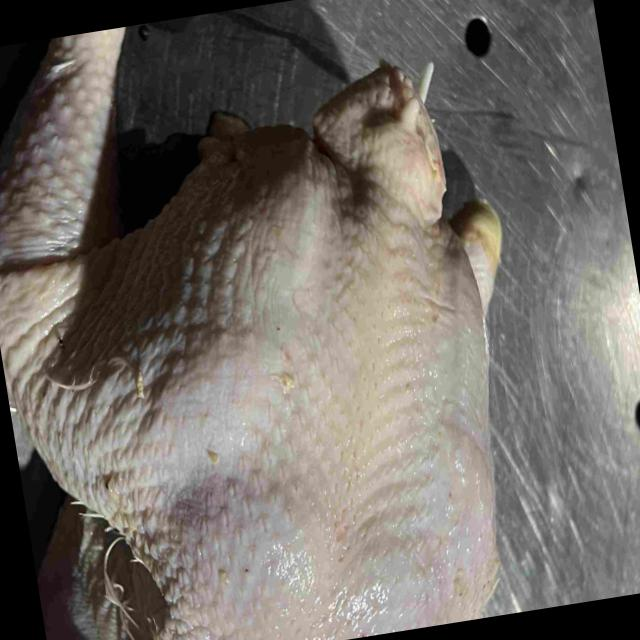back: (163, 61, 496, 640)
leg: (0, 27, 206, 553), (449, 199, 502, 318)
